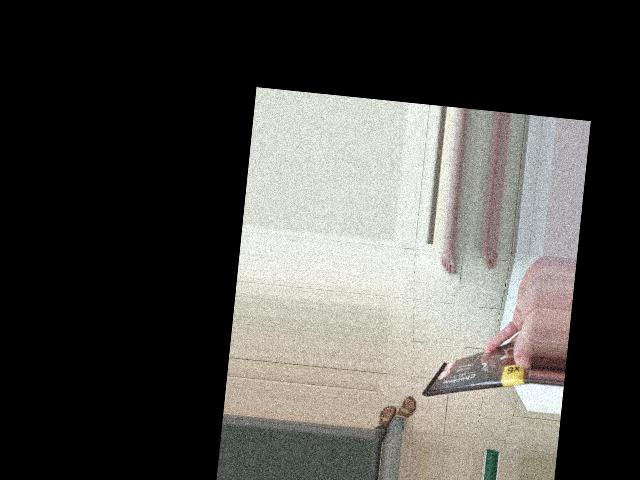chocolate: (411, 294, 489, 406)
